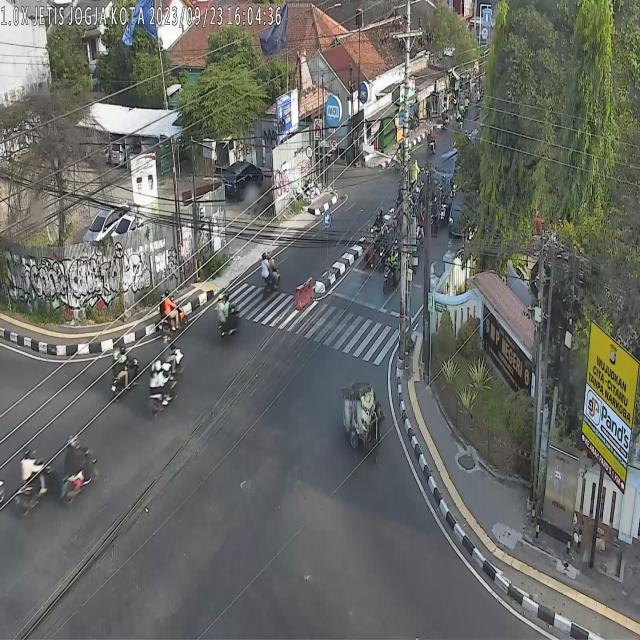car: (433, 148, 459, 190)
motorcycle: (13, 446, 57, 516), (59, 435, 100, 505), (146, 354, 179, 415), (110, 344, 140, 402), (158, 289, 188, 340), (216, 288, 240, 337), (260, 250, 280, 298), (382, 244, 401, 294), (361, 228, 376, 271), (378, 226, 390, 269), (372, 207, 386, 241), (430, 194, 438, 238)
